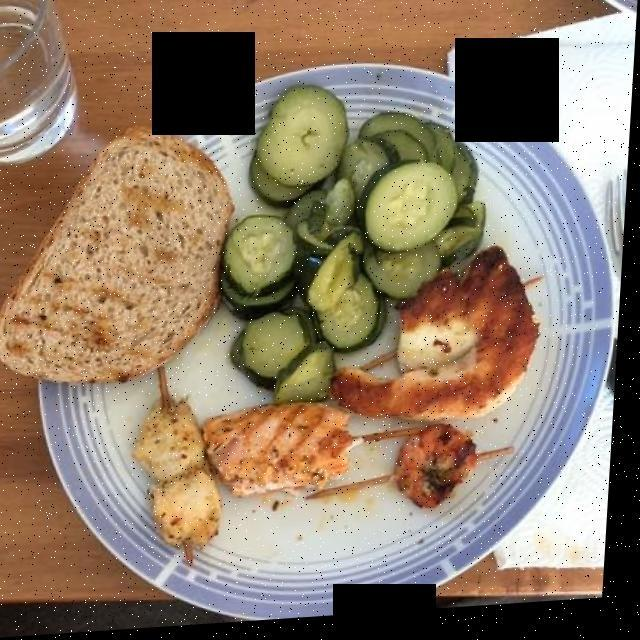bread: (0, 134, 255, 395)
salmon: (204, 402, 359, 500)
shrimp: (332, 243, 540, 420), (389, 422, 483, 512)
zucchini: (232, 107, 487, 404)
